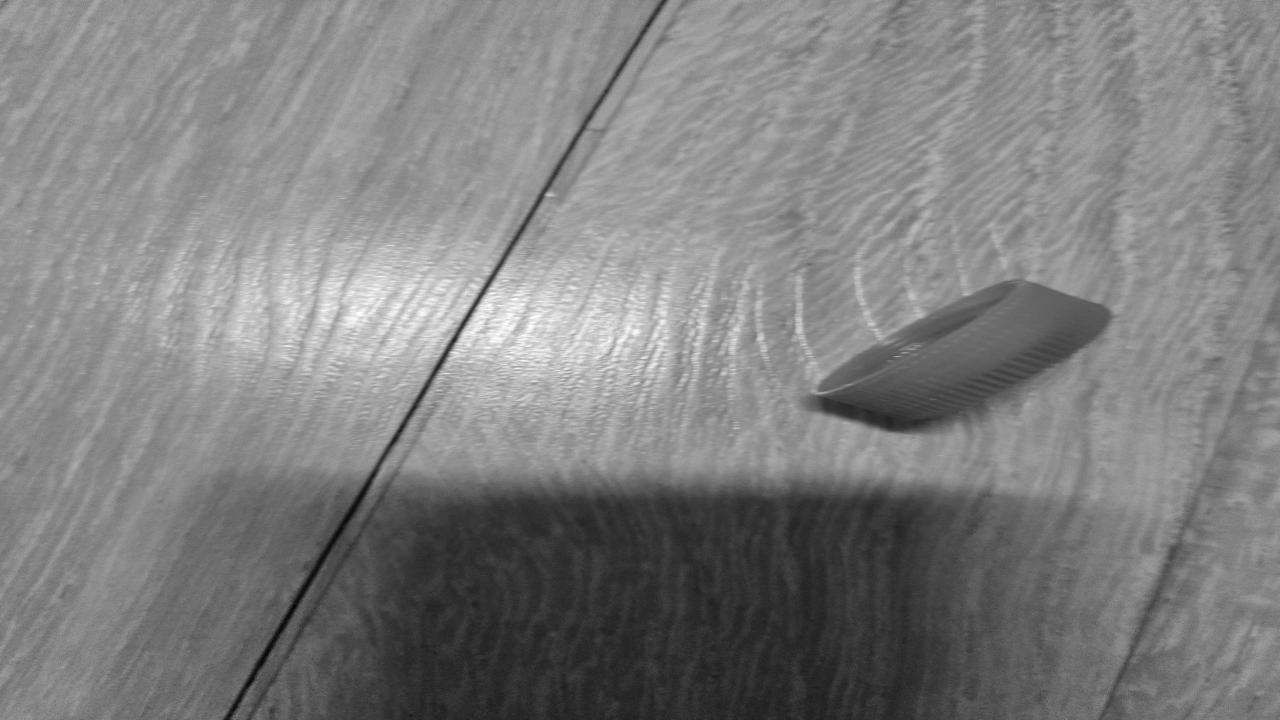bottle_cap: (806, 276, 1116, 424)
